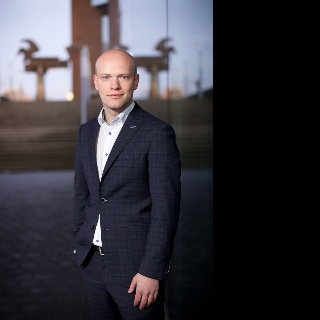without_mask: (96, 60, 134, 108)
